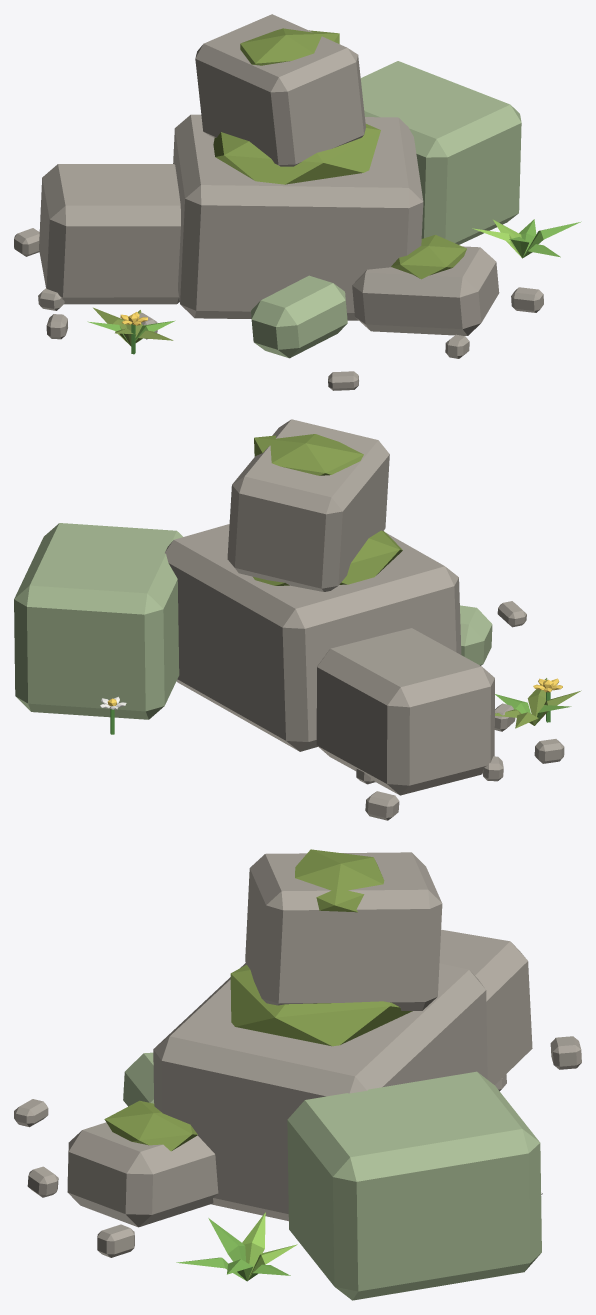
File: rock_cluster.glb
3 renders of one model, top to bottom at view 1: azimuth 30°, elevation 25°; view 2: azimuth 150°, elevation 25°; view 3: azimuth 270°, elevation 25°, orthographic. The views are drawn at different scales.
Parts seen in each view (by area): view 1: Rock Cluster; view 2: Rock Cluster; view 3: Rock Cluster.
Boxes of the visible parts, left/top/right/bottom form: Rock Cluster: left=14, top=14, right=581, bottom=390; Rock Cluster: left=14, top=419, right=581, bottom=820; Rock Cluster: left=14, top=849, right=581, bottom=1300.
Size of the model in its own units: 1.85 by 0.8974 by 1.52.
1 material, 1 textured.
